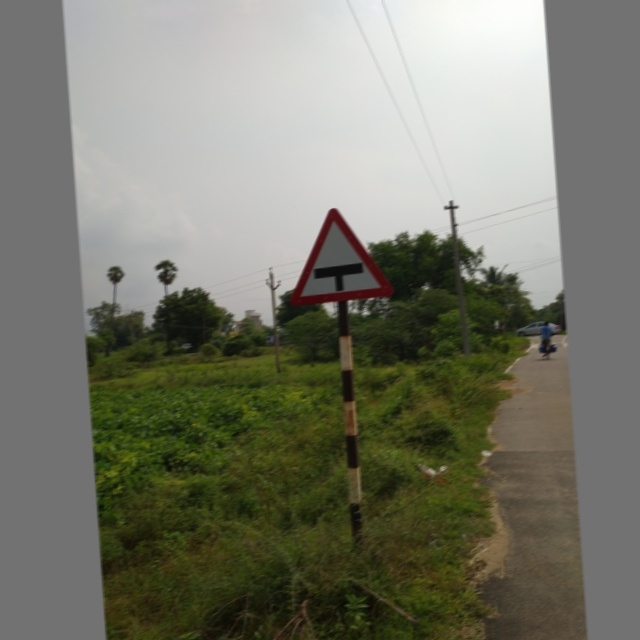T_Intersection: (269, 185, 397, 315)
